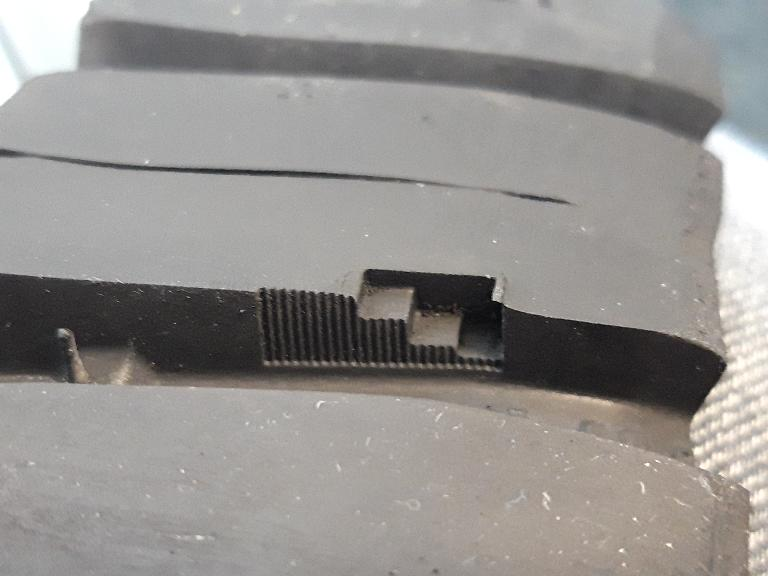temoin:75: (302, 260, 520, 382)
